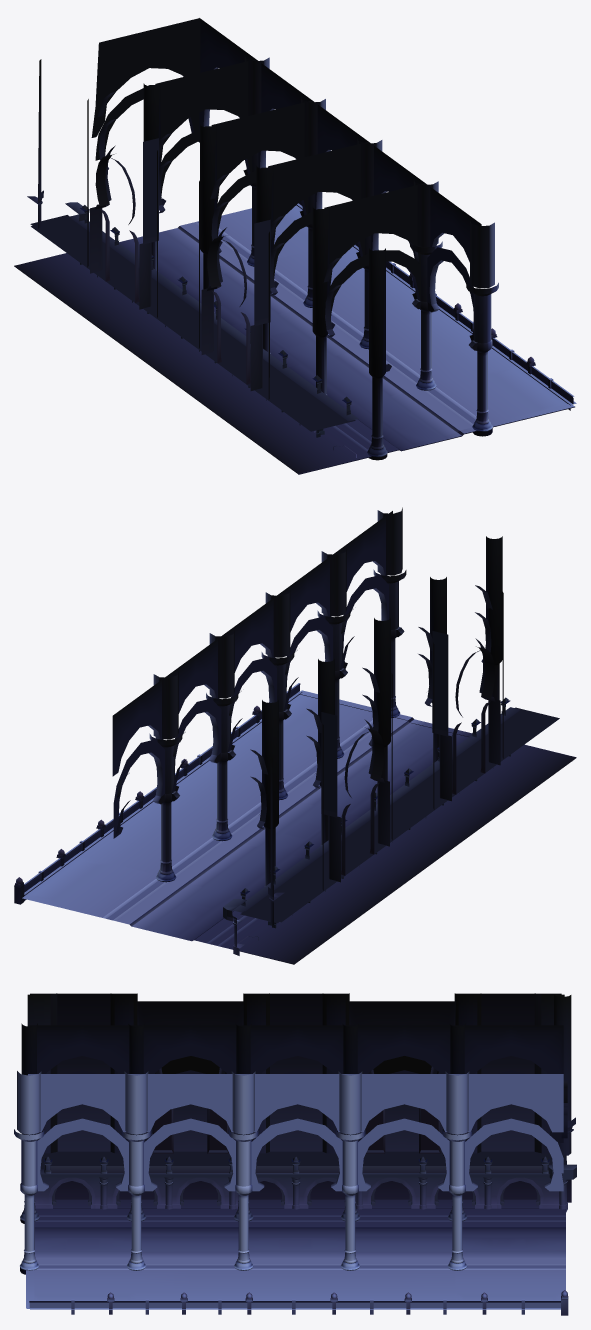
File: NPBoss.gltf
3 views of the same model, one above another, from view 1: azimuth 30°, elevation 25°; view 2: azimuth 150°, elevation 25°; view 3: azimuth 270°, elevation 25° (orthographic). The views are drawn at different scales.
Parts seen in each view (by area): view 1: stg073_o_Mesh_0000, stg073_o_Mesh_0028, stg073_o_Mesh_0011, stg073_o_Mesh_0007, stg073_o_Mesh_0035, stg073_o_Mesh_0060, stg073_o_Mesh_0038, stg073_o_Mesh_0044, stg073_o_Mesh_0039, stg073_o_Mesh_0019, stg073_k_Mesh_0004, stg073_o_Mesh_0063 (+5 smaller); view 2: stg073_o_Mesh_0000, stg073_o_Mesh_0028, stg073_o_Mesh_0011, stg073_o_Mesh_0007, stg073_o_Mesh_0035, stg073_o_Mesh_0044, stg073_o_Mesh_0060, stg073_o_Mesh_0019, stg073_o_Mesh_0039, stg073_o_Mesh_0038, stg073_k_Mesh_0004, stg073_o_Mesh_0063 (+5 smaller); view 3: stg073_o_Mesh_0028, stg073_o_Mesh_0011, stg073_o_Mesh_0000, stg073_o_Mesh_0007, stg073_o_Mesh_0039, stg073_o_Mesh_0035, stg073_o_Mesh_0038, stg073_o_Mesh_0019, stg073_o_Mesh_0060, stg073_o_Mesh_0044, stg073_k_Mesh_0004, stg073_o_Mesh_0063 (+9 smaller).
Part boxes in pixels (left/top/right/bottom): stg073_o_Mesh_0000: left=14, top=55, right=553, bottom=473; stg073_o_Mesh_0028: left=65, top=18, right=491, bottom=437; stg073_o_Mesh_0011: left=30, top=54, right=574, bottom=473; stg073_o_Mesh_0007: left=133, top=215, right=574, bottom=474; stg073_o_Mesh_0035: left=38, top=59, right=487, bottom=434; stg073_o_Mesh_0060: left=293, top=270, right=453, bottom=364; stg073_o_Mesh_0038: left=119, top=228, right=456, bottom=447; stg073_o_Mesh_0044: left=38, top=67, right=444, bottom=433; stg073_o_Mesh_0039: left=143, top=138, right=270, bottom=320; stg073_o_Mesh_0019: left=84, top=187, right=566, bottom=449; stg073_k_Mesh_0004: left=180, top=222, right=472, bottom=430; stg073_o_Mesh_0063: left=225, top=208, right=535, bottom=419; stg073_o_Mesh_0000: left=14, top=507, right=575, bottom=964; stg073_o_Mesh_0028: left=112, top=511, right=520, bottom=912; stg073_o_Mesh_0011: left=14, top=548, right=576, bottom=948; stg073_o_Mesh_0007: left=16, top=694, right=468, bottom=949; stg073_o_Mesh_0035: left=161, top=592, right=503, bottom=947; stg073_o_Mesh_0044: left=115, top=561, right=492, bottom=925; stg073_o_Mesh_0060: left=140, top=762, right=298, bottom=854; stg073_o_Mesh_0019: left=26, top=569, right=505, bottom=945; stg073_o_Mesh_0039: left=321, top=631, right=448, bottom=812; stg073_o_Mesh_0038: left=132, top=723, right=468, bottom=941; stg073_k_Mesh_0004: left=117, top=717, right=407, bottom=924; stg073_o_Mesh_0063: left=54, top=704, right=362, bottom=913; stg073_o_Mesh_0028: left=21, top=993, right=576, bottom=1251; stg073_o_Mesh_0011: left=20, top=1044, right=576, bottom=1308; stg073_o_Mesh_0000: left=17, top=1023, right=573, bottom=1315; stg073_o_Mesh_0007: left=20, top=1202, right=567, bottom=1300; stg073_o_Mesh_0039: left=55, top=998, right=571, bottom=1202; stg073_o_Mesh_0035: left=24, top=993, right=571, bottom=1249; stg073_o_Mesh_0038: left=34, top=1166, right=565, bottom=1257; stg073_o_Mesh_0019: left=14, top=1127, right=570, bottom=1300; stg073_o_Mesh_0060: left=189, top=1270, right=402, bottom=1292; stg073_o_Mesh_0044: left=40, top=1001, right=576, bottom=1201; stg073_k_Mesh_0004: left=35, top=1257, right=565, bottom=1263; stg073_o_Mesh_0063: left=34, top=1278, right=565, bottom=1292.
Bounding box in the file's own units: 50.19 × 36.29 × 91.85.
